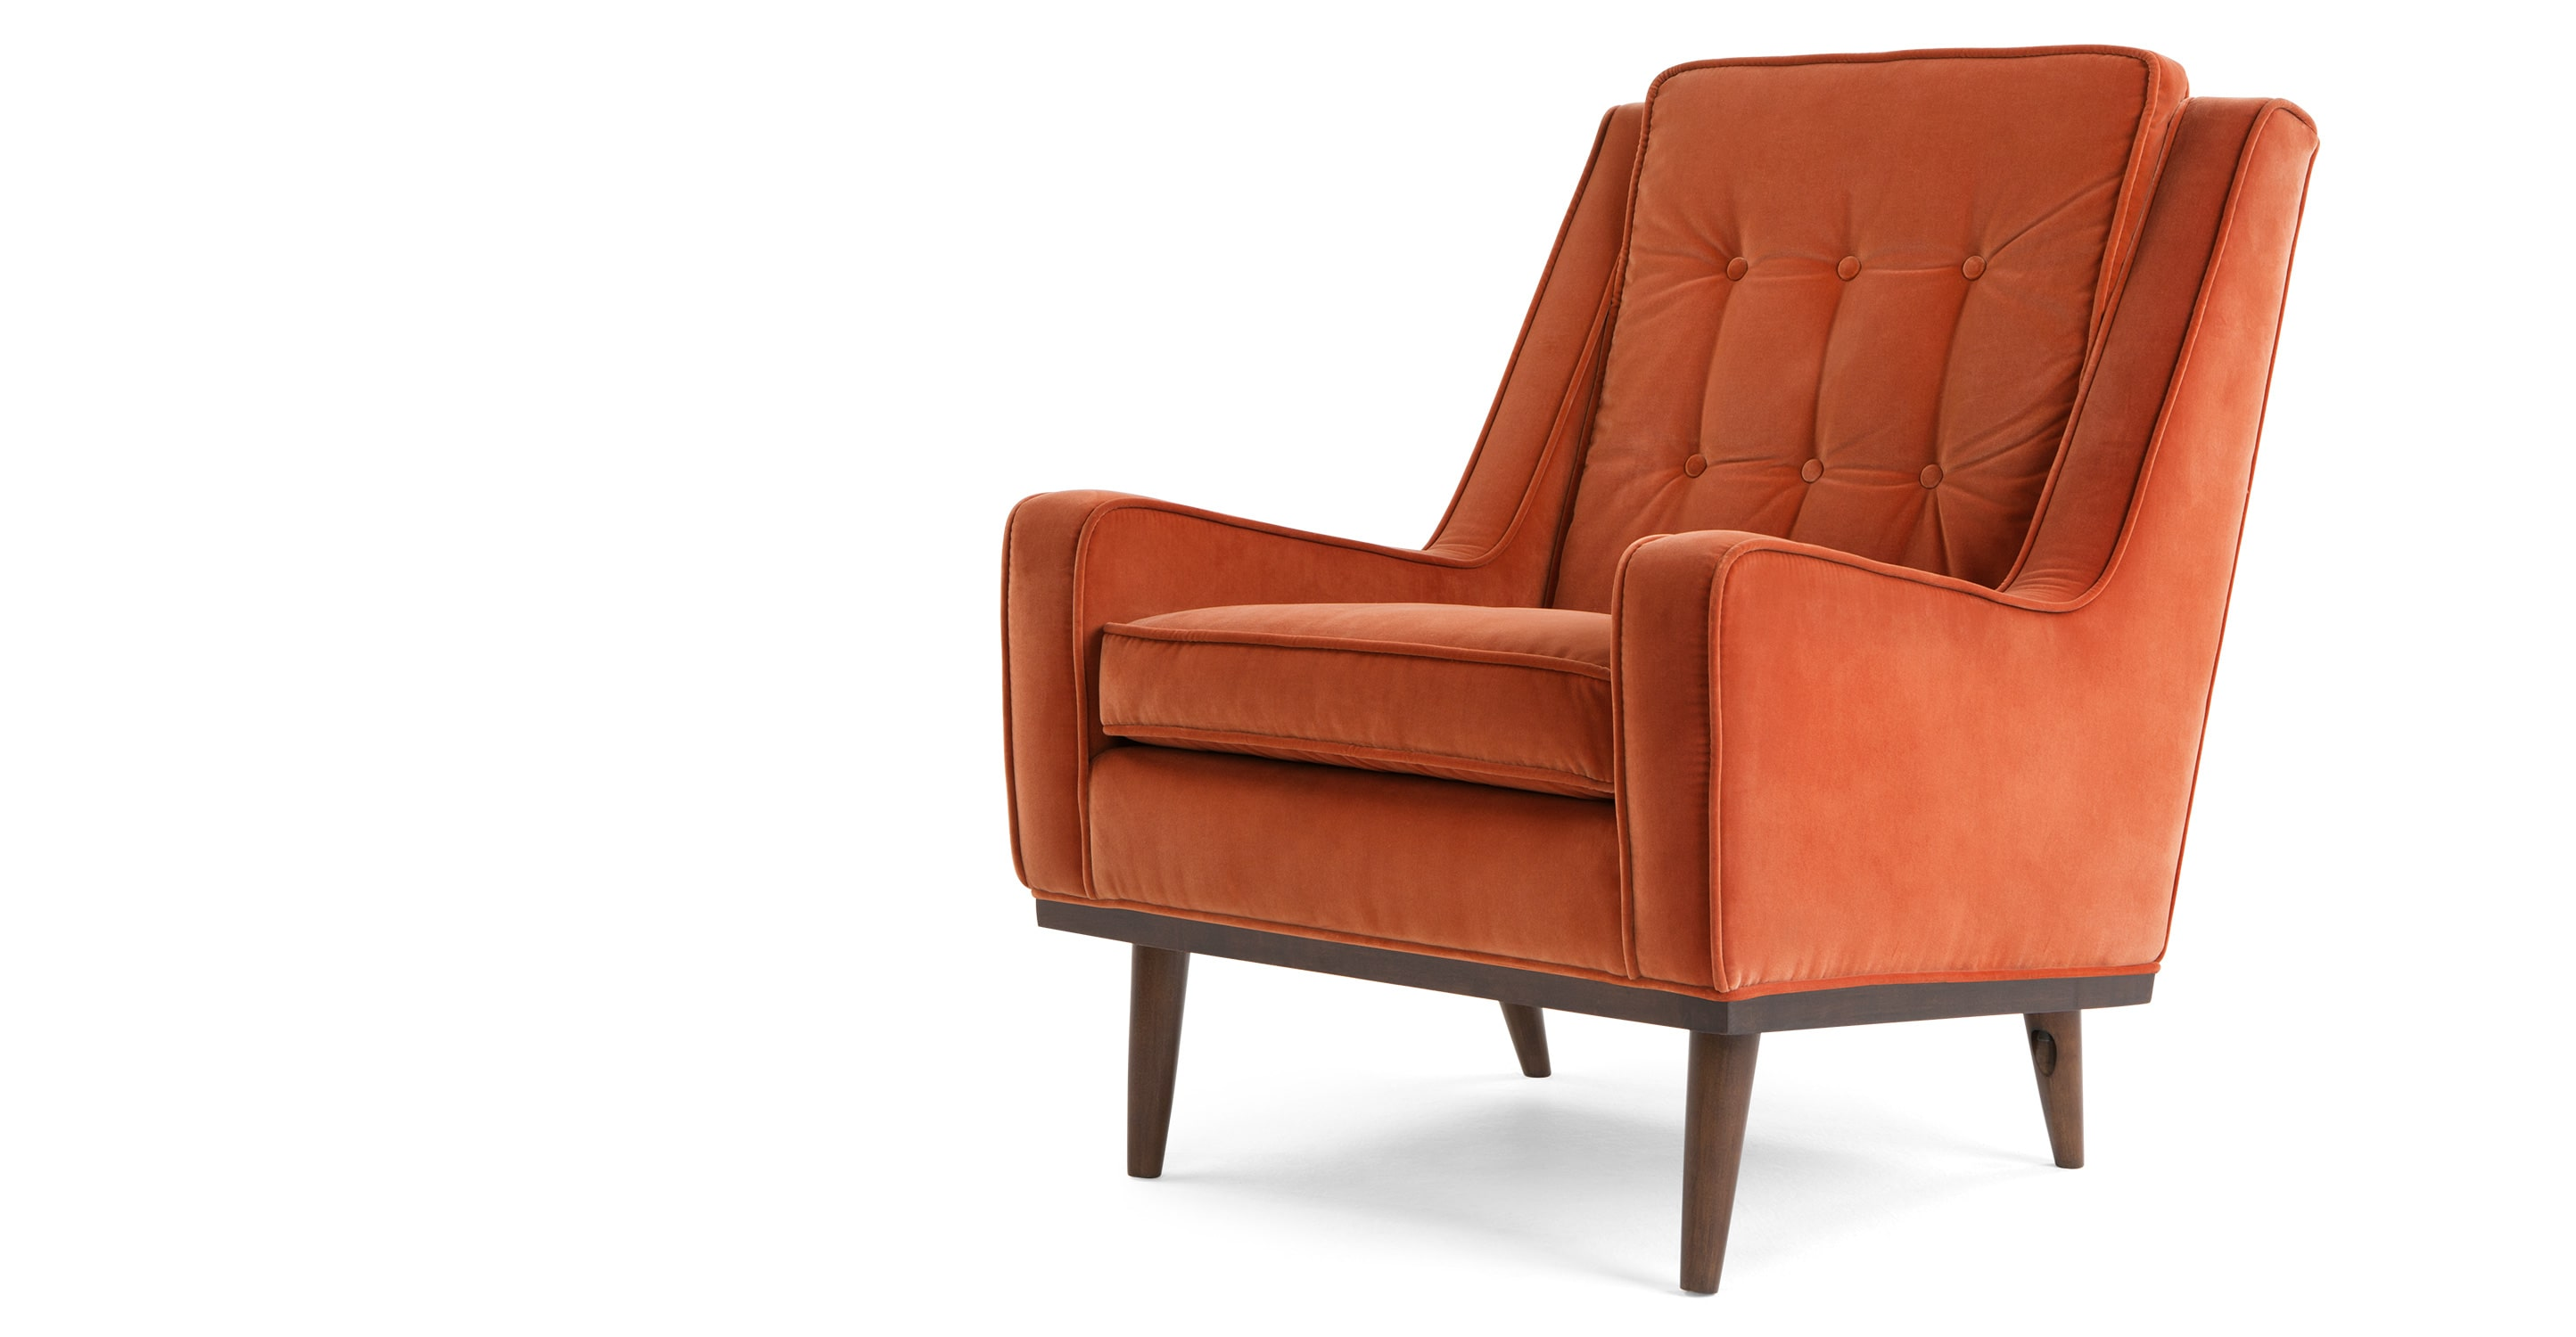chairs: (985, 36, 2326, 1298)
